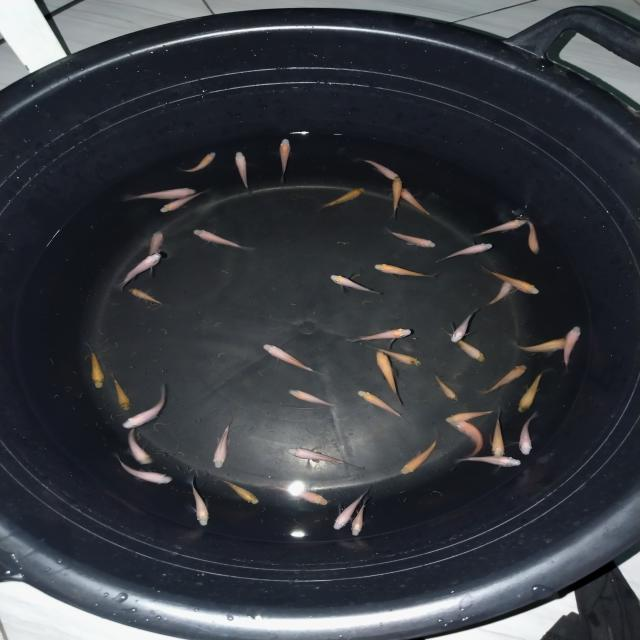nila: (258, 339, 324, 379), (119, 381, 170, 431), (366, 349, 409, 406), (112, 453, 178, 490), (284, 445, 369, 471), (482, 264, 542, 300), (333, 484, 375, 531), (398, 432, 442, 476), (112, 252, 162, 290), (440, 326, 490, 364), (192, 224, 256, 253), (157, 186, 215, 216), (354, 388, 406, 421), (435, 238, 498, 264), (517, 368, 556, 410), (442, 419, 486, 456), (480, 362, 530, 394), (272, 482, 330, 508), (468, 216, 528, 241), (118, 186, 206, 202), (510, 338, 580, 358), (314, 187, 366, 213), (218, 478, 263, 508), (400, 182, 436, 219), (447, 308, 482, 346), (327, 273, 383, 296), (372, 345, 428, 368), (186, 478, 212, 527), (385, 229, 440, 252), (372, 262, 436, 280), (485, 273, 517, 309), (559, 324, 583, 372), (342, 327, 417, 342), (125, 426, 153, 466), (178, 147, 219, 174), (517, 408, 540, 456), (347, 498, 376, 536), (212, 419, 234, 469), (85, 341, 106, 392), (457, 456, 539, 469), (361, 156, 403, 181), (147, 227, 167, 279), (284, 388, 336, 408), (232, 148, 256, 190), (522, 216, 546, 258), (277, 133, 294, 190), (489, 408, 507, 459), (432, 372, 462, 402), (446, 408, 496, 426), (126, 286, 166, 306), (112, 376, 134, 411), (387, 176, 403, 220)
